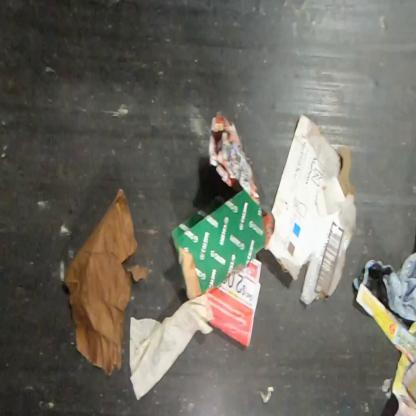cardboard: (263, 112, 358, 307), (170, 188, 266, 302)
soft_plastic: (352, 251, 416, 322)
